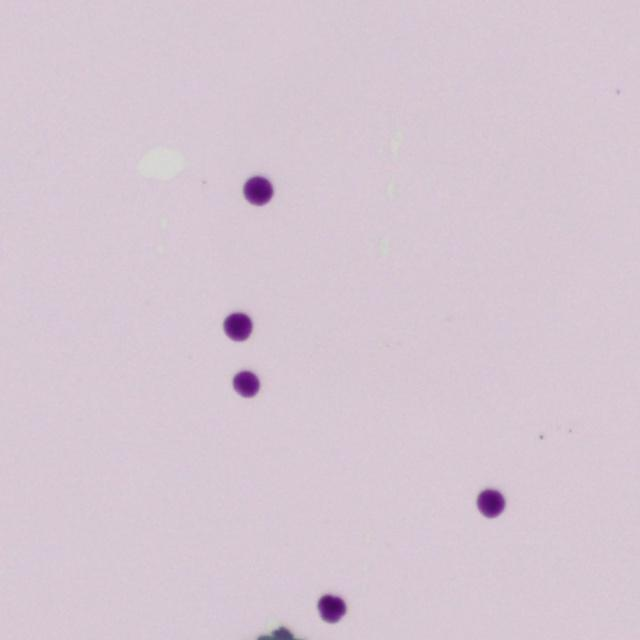viable: (244, 176, 273, 205), (477, 488, 505, 517), (318, 594, 346, 622), (224, 313, 251, 340), (233, 371, 259, 397)
